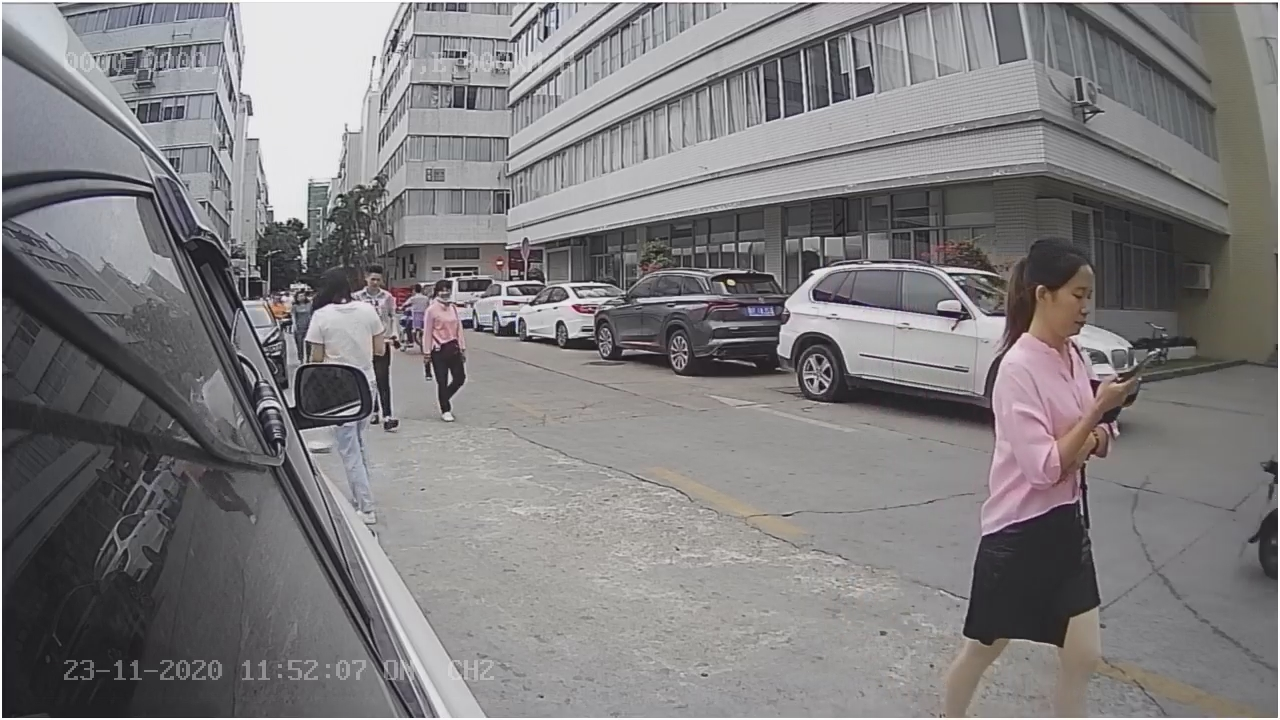person: (984, 233, 1142, 496), (413, 277, 483, 425)
